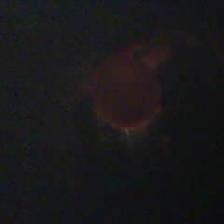fertile: (85, 49, 164, 134)
